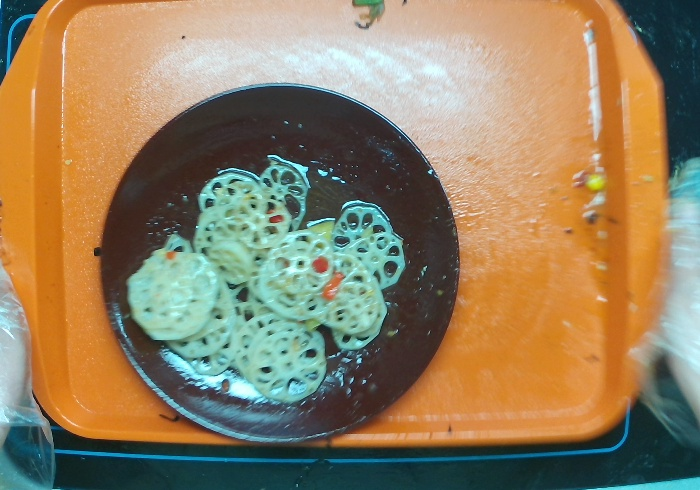HZYJPL-Ka_Fei_Yuan_Pan: (97, 79, 463, 448)
